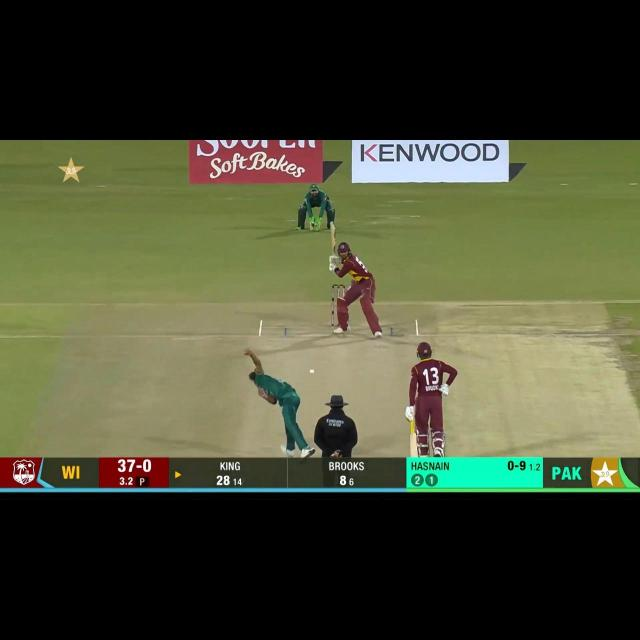bat: (329, 222, 338, 258), (410, 434, 420, 458)
toe: (410, 452, 422, 459), (328, 222, 337, 229)
